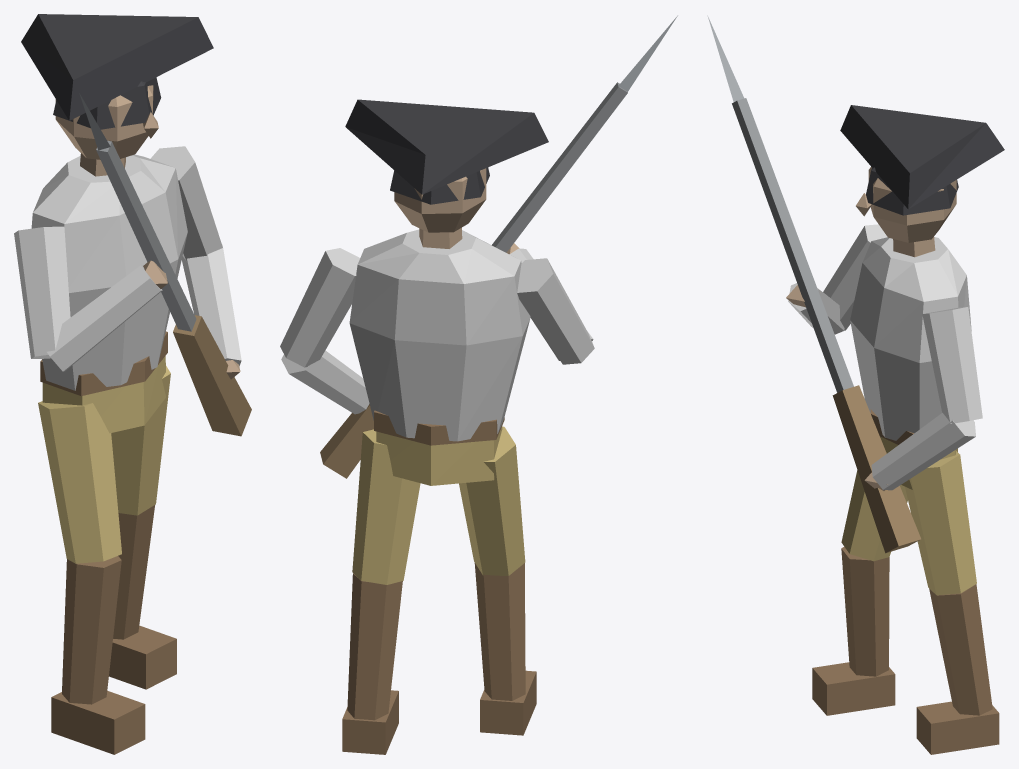
File: carolean.glb
3 views of the same model, side by side, from view 1: azimuth 30°, elevation 25°; view 2: azimuth 150°, elevation 25°; view 3: azimuth 270°, elevation 25° (orthographic). The views are drawn at different scales.
Visible parts, largest first — view 1: LOD0; view 2: LOD0; view 3: LOD0.
Boxes of the visible parts, bbox=[...] form: LOD0: bbox=[14, 14, 251, 754]; LOD0: bbox=[280, 15, 677, 754]; LOD0: bbox=[707, 15, 1004, 754].
Size of what is drawn, in the model's own units: 0.4406 by 1.07 by 0.4498.
